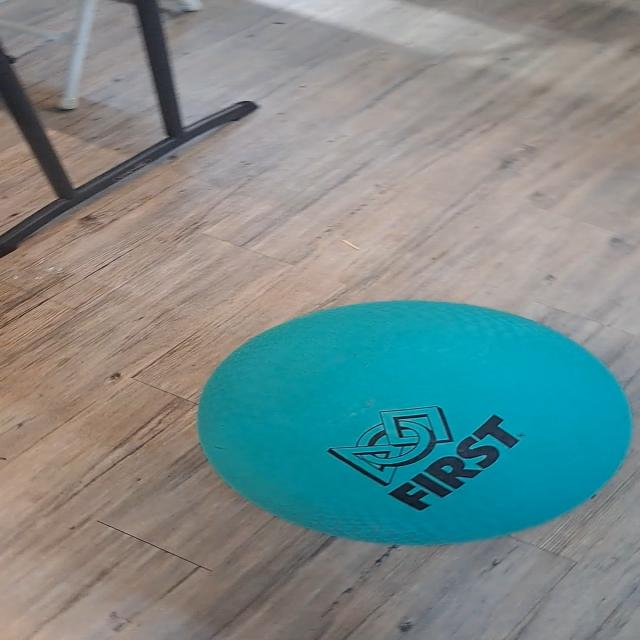ALGAE: (194, 298, 633, 547)
